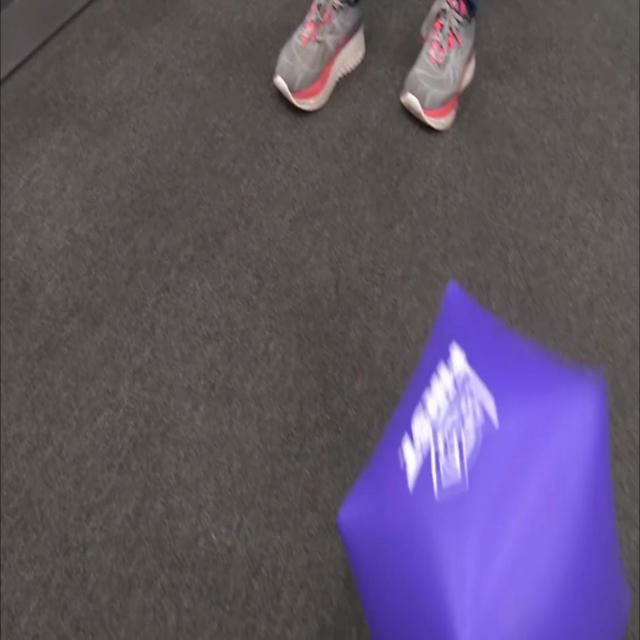frc_cube: (332, 273, 629, 640)
